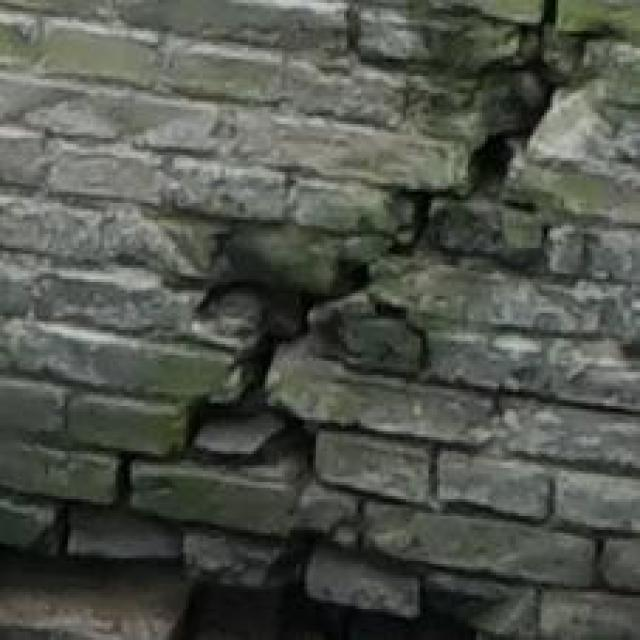Crack: (131, 0, 626, 554)
